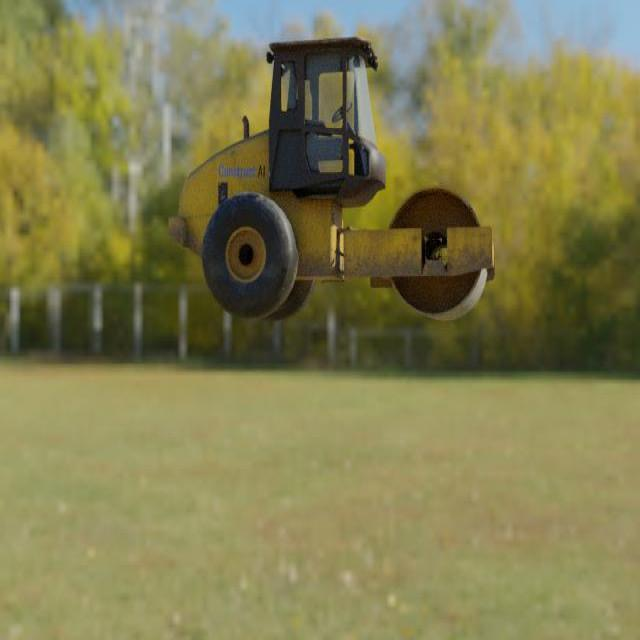Roller: (168, 36, 495, 321)
